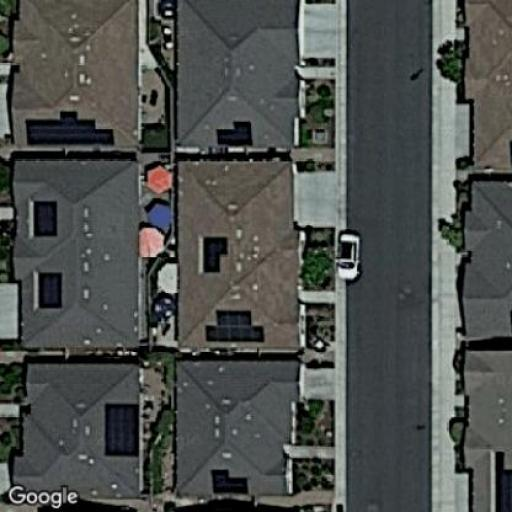solar-panel: (23, 107, 117, 147), (101, 400, 141, 460), (202, 308, 268, 344), (200, 234, 231, 276), (491, 446, 511, 510), (208, 466, 252, 495), (214, 118, 256, 148), (36, 269, 65, 312), (31, 199, 61, 239)
